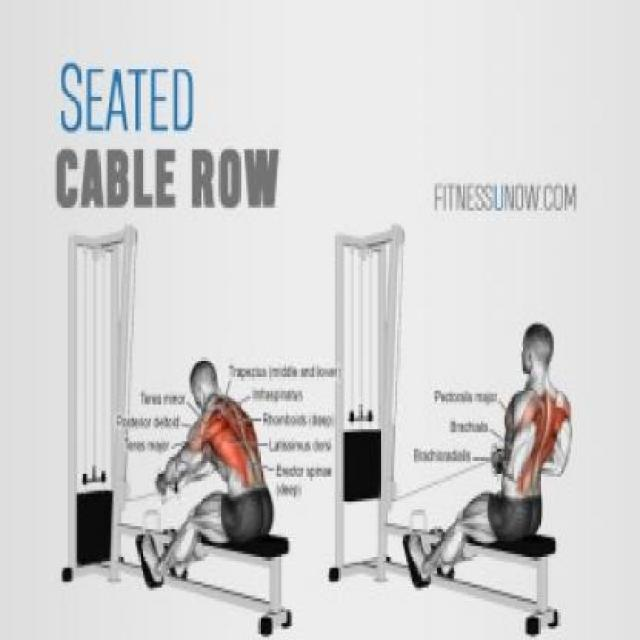Seated Cable Rows: (16, 35, 338, 640)
